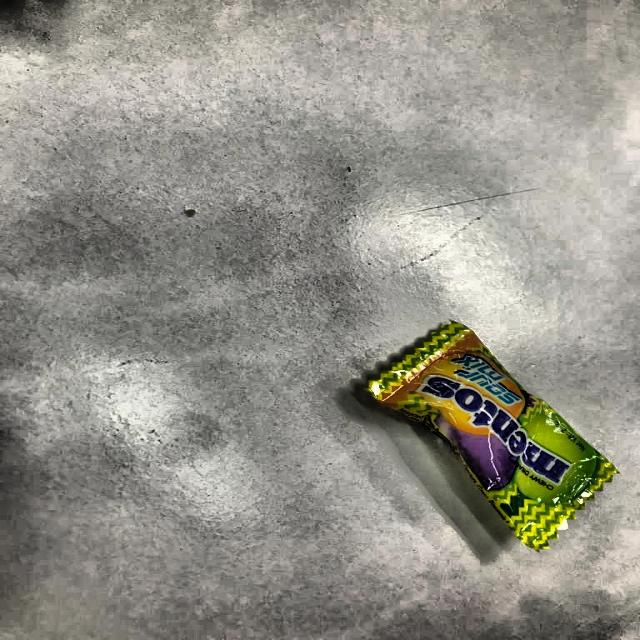Plastic: (353, 316, 604, 558)
